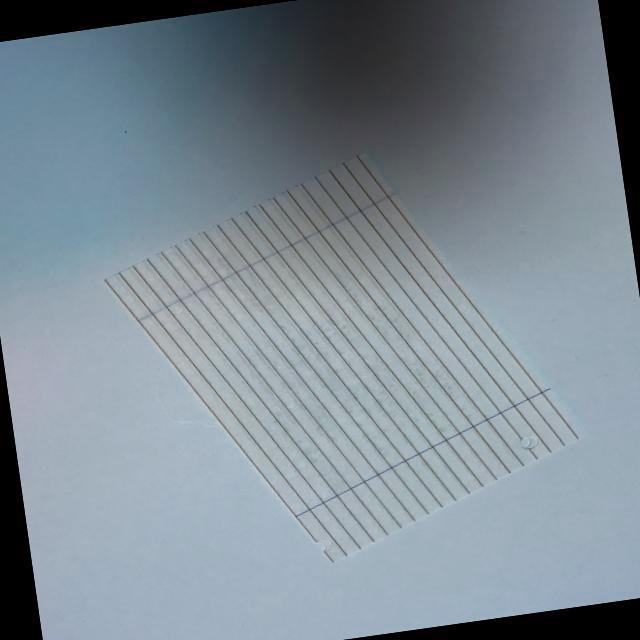paper: (92, 130, 594, 588)
